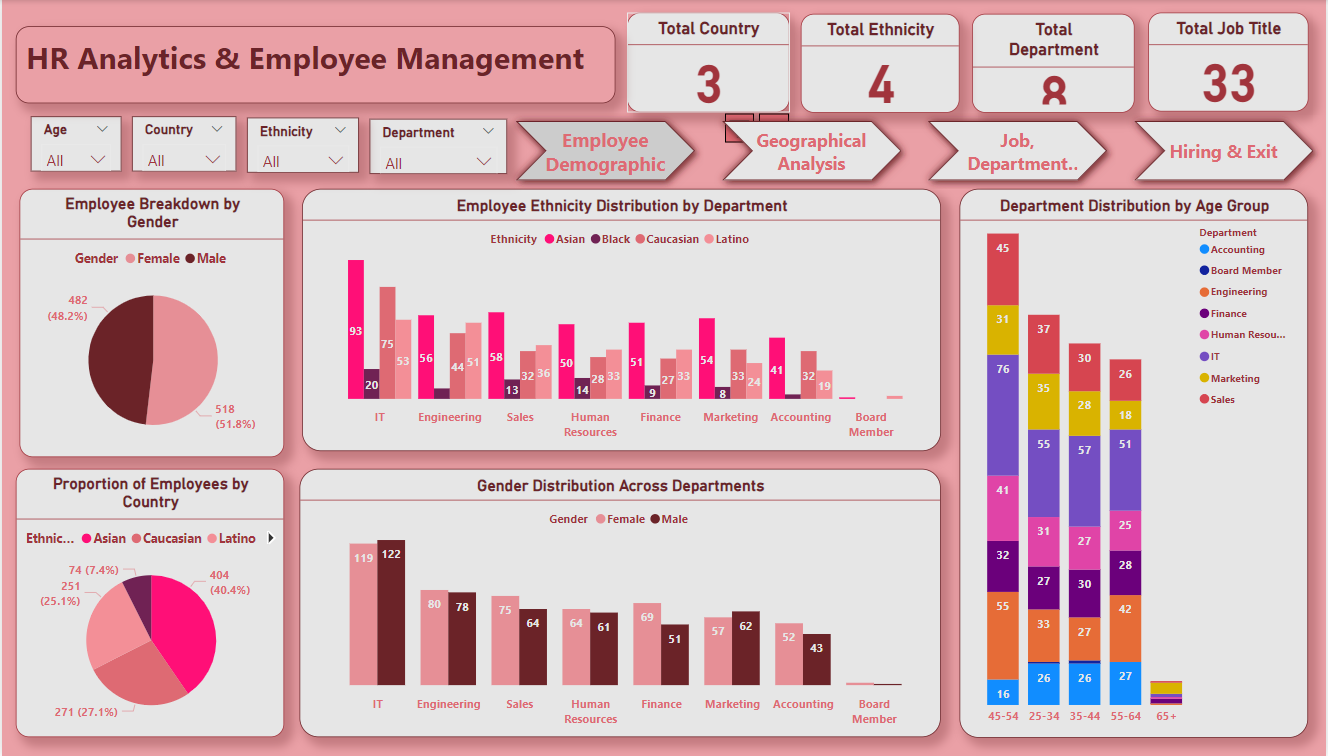

The dashboard page shown, as its layout file describes it:
{"tool":"powerbi","page":{"name":"Employee Demographic","canvas":[1400,800],"ordinal":0},"visuals":[{"type":"pieChart","title":"Employee Breakdown by Gender","fields":{"Category":["TBL_Employees.Gender"],"Y":["CountNonNull(TBL_Employees.Employee ID)"]},"box":[18.5,199.7,280.3,284.3],"z":0},{"type":"card","title":"Total Country","fields":{"Values":["Count(TBL_Employees.Country)"]},"box":[661.2,13.2,171.9,105.8],"z":1000},{"type":"card","title":"Total Department","fields":{"Values":["Count(TBL_Employees.Department)"]},"box":[1026.1,14.5,171.9,108.4],"z":2000},{"type":"card","title":"Total Ethnicity","fields":{"Values":["Count(TBL_Employees.Ethnicity)"]},"box":[845,14.5,167.9,104.5],"z":3000},{"type":"card","title":"Total Job Title","fields":{"Values":["Count(TBL_Employees.Job Title)"]},"box":[1212.6,13.2,169.3,104.5],"z":4000},{"type":"pieChart","title":"Proportion of Employees by Country","fields":{"Y":["CountNonNull(TBL_Employees.Employee ID)"],"Category":["TBL_Employees.Ethnicity"]},"box":[14.5,495.9,284.3,284.3],"z":5000},{"type":"clusteredColumnChart","title":"Employee Ethnicity Distribution by Department","fields":{"Category":["TBL_Employees.Department"],"Y":["CountNonNull(TBL_Employees.Employee ID)"],"Series":["TBL_Employees.Ethnicity"]},"box":[317.4,199.7,675.7,277.7],"z":6000},{"type":"clusteredColumnChart","title":"Gender Distribution Across Departments","fields":{"Y":["CountNonNull(TBL_Employees.Employee ID)"],"Category":["TBL_Employees.Department"],"Series":["TBL_Employees.Gender"]},"box":[314.7,495.9,678.3,284.3],"z":7000},{"type":"slicer","fields":{"Values":["TBL_Employees.Age"]},"box":[30,122.9,95.7,58.6],"z":8000},{"type":"textbox","box":[14.5,27.8,634.7,82],"z":9000},{"type":"columnChart","title":"Department Distribution by Age Group","fields":{"Category":["TBL_Employees.Age_group"],"Y":["CountNonNull(TBL_Employees.Employee ID)"],"Series":["TBL_Employees.Department"]},"box":[1012.9,199.7,368.9,580.5],"z":10000},{"type":"slicer","fields":{"Values":["TBL_Employees.Country"]},"box":[137.1,122.9,110,58.6],"z":11000},{"type":"slicer","fields":{"Values":["TBL_Employees.Department"]},"box":[388.6,125.7,145.7,58.6],"z":12000},{"type":"slicer","fields":{"Values":["TBL_Employees.Ethnicity"]},"box":[258.6,124.3,118.6,58.6],"z":13000},{"type":"pageNavigator","box":[534.3,118.6,865.7,81.4],"z":14000}]}

Visuals, with their boxes in screenshot pixels (x1, y1, x2, y2), scaled from the page's 1400x800 canvas onto the 1328x756 screenshot:
"Employee Breakdown by Gender" pieChart: 18:189:283:457
"Total Country" card: 627:12:790:112
"Total Department" card: 973:14:1136:116
"Total Ethnicity" card: 802:14:961:112
"Total Job Title" card: 1150:12:1311:111
"Proportion of Employees by Country" pieChart: 14:469:283:737
"Employee Ethnicity Distribution by Department" clusteredColumnChart: 301:189:942:451
"Gender Distribution Across Departments" clusteredColumnChart: 299:469:942:737
slicer - TBL_Employees.Age: 28:116:119:172
textbox: 14:26:616:104
"Department Distribution by Age Group" columnChart: 961:189:1311:737
slicer - TBL_Employees.Country: 130:116:234:172
slicer - TBL_Employees.Department: 369:119:507:174
slicer - TBL_Employees.Ethnicity: 245:117:358:173
pageNavigator: 507:112:1327:189
